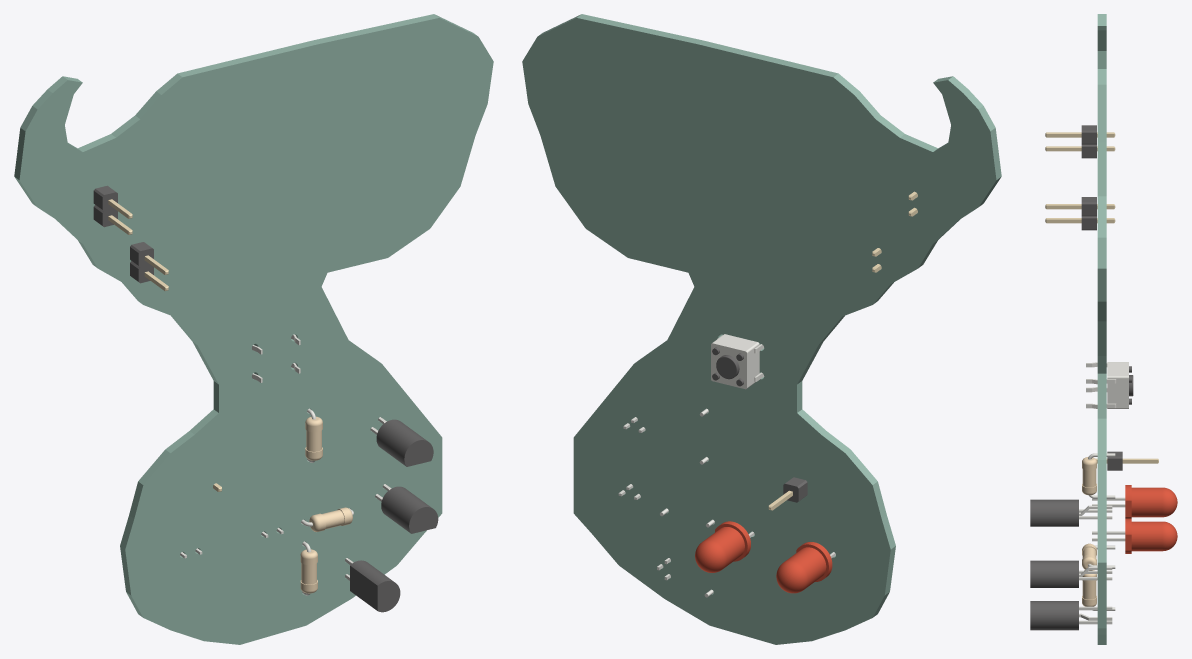
The model's file is current.glb.
3 views of the same model, side by side, from view 1: azimuth 30°, elevation 25°; view 2: azimuth 150°, elevation 25°; view 3: azimuth 270°, elevation 25° (orthographic). The views are drawn at different scales.
Visible parts, largest first — view 1: Node1, Node3, Node6, Node2, Node4; view 2: Node1, Node5, Node2, Node3; view 3: Node1, Node3, Node5, Node2, Node4, Node6.
Part boxes in pixels (x1,y1,x2,y2): Node1: (14, 14, 493, 644); Node3: (93, 185, 438, 612); Node6: (300, 416, 352, 593); Node2: (180, 334, 391, 595); Node4: (108, 199, 221, 491); Node1: (522, 14, 1001, 644); Node5: (695, 521, 832, 593); Node2: (618, 334, 835, 597); Node3: (712, 347, 807, 502); Node1: (1097, 14, 1106, 644); Node3: (1030, 125, 1133, 630); Node5: (1125, 485, 1177, 553); Node2: (1079, 362, 1128, 624); Node4: (1045, 132, 1158, 463); Node6: (1082, 457, 1096, 606).
Size of the model in its own units: 78.5 by 96 by 24.28.
